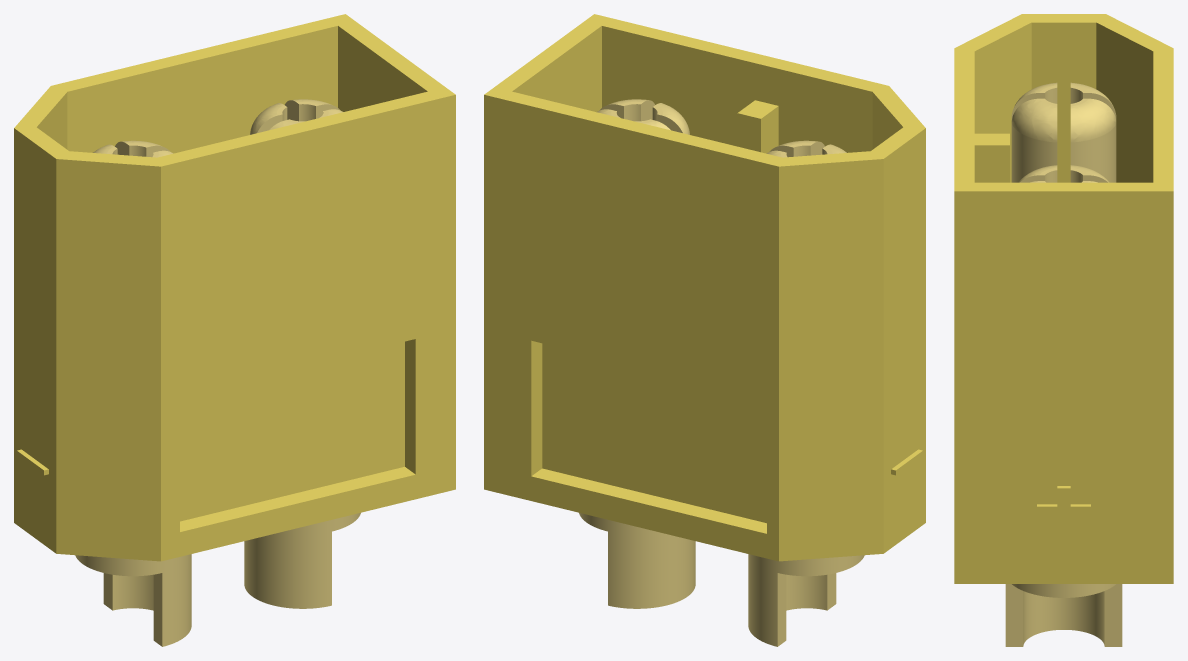
3 views of the same model, side by side, from view 1: azimuth 30°, elevation 25°; view 2: azimuth 150°, elevation 25°; view 3: azimuth 270°, elevation 25° (orthographic).
Visible parts, largest first — view 1: XT60 male v002, XT60 male v9, XT60 male v001; view 2: XT60 male v002, XT60 male v9, XT60 male v001; view 3: XT60 male v002, XT60 male v001, XT60 male v9.
Part boxes in pixels (left/top/right/bottom): XT60 male v002: left=14, top=14, right=455, bottom=561; XT60 male v9: left=244, top=99, right=360, bottom=608; XT60 male v001: left=75, top=140, right=191, bottom=646; XT60 male v002: left=484, top=14, right=925, bottom=561; XT60 male v9: left=579, top=99, right=695, bottom=608; XT60 male v001: left=748, top=140, right=864, bottom=646; XT60 male v002: left=954, top=14, right=1173, bottom=583; XT60 male v001: left=1011, top=82, right=1116, bottom=182; XT60 male v9: left=1005, top=165, right=1122, bottom=646.
Bounding box in the file's own units: 0.0159 × 0.0205 × 0.0081.
